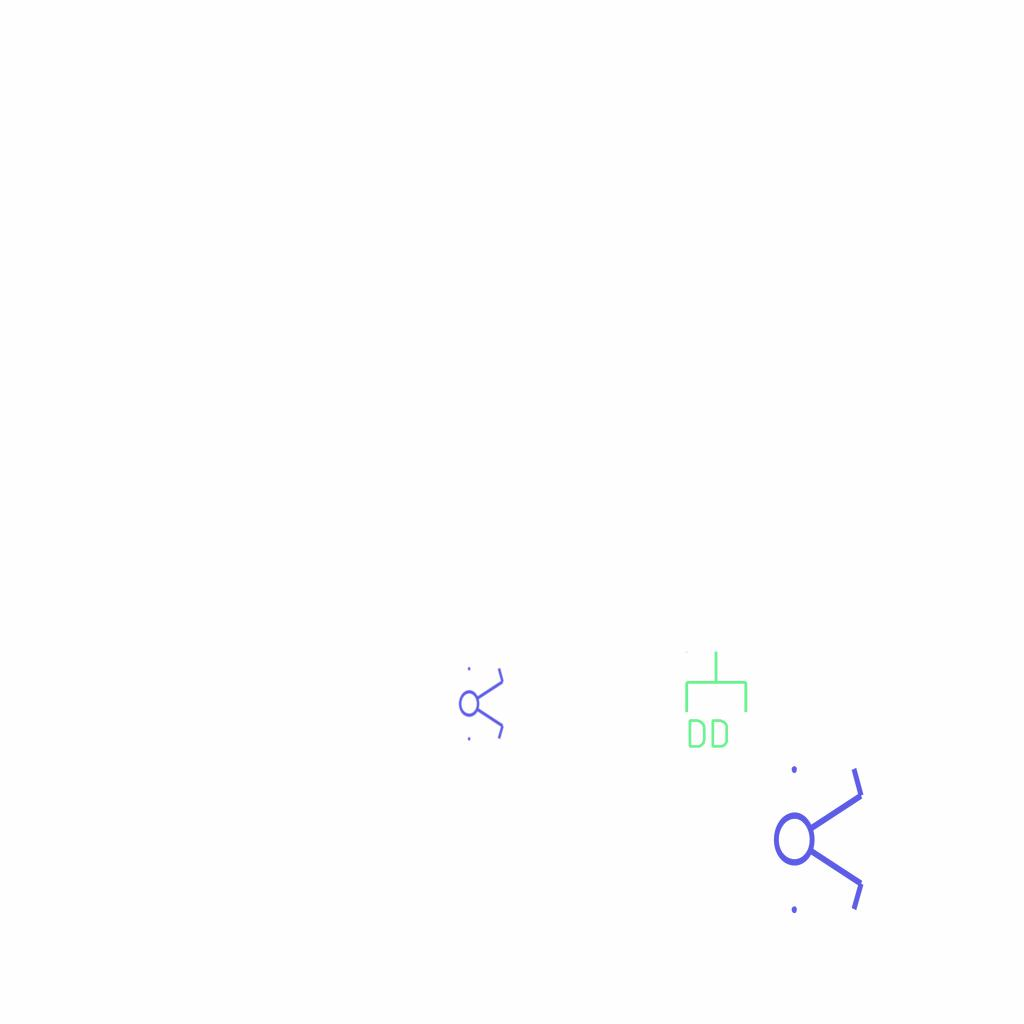Datenanschluss_zweifach: (681, 649, 750, 752)
Serienschalter: (772, 754, 868, 922), (458, 661, 506, 745)
